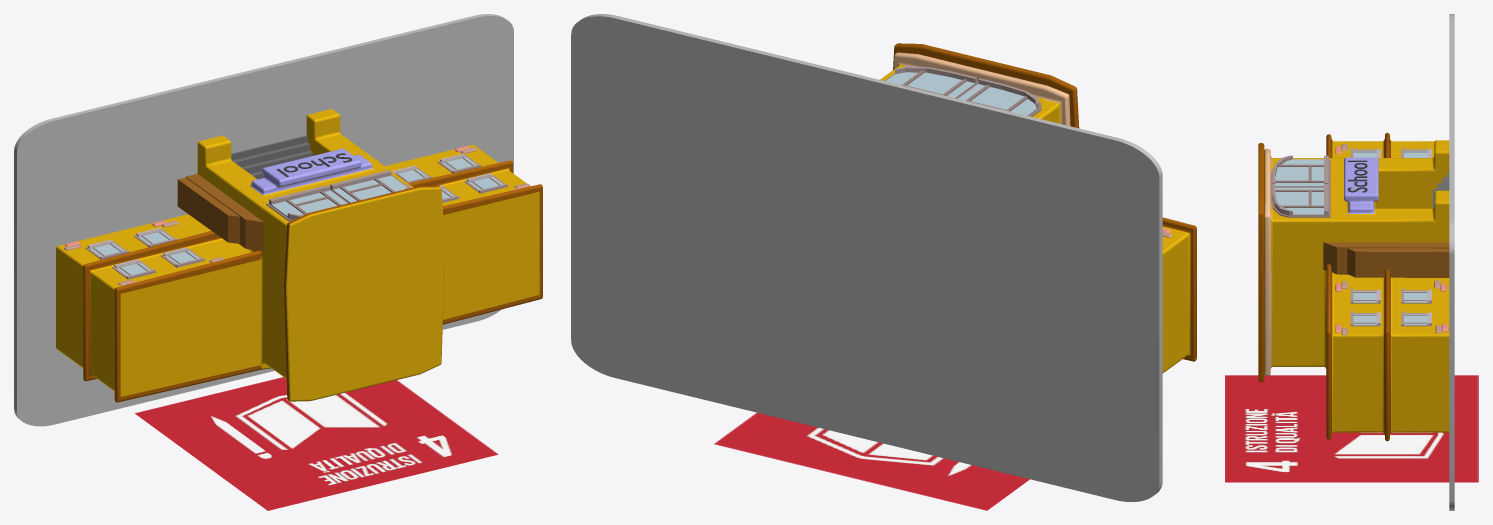
The picture shows the model from 3 angles, left to right: view 1: azimuth 30°, elevation 25°; view 2: azimuth 150°, elevation 25°; view 3: azimuth 270°, elevation 25°; orthographic projection. The views are drawn at different scales.
Parts seen in each view (by area): view 1: Cube, Plane__1_, ImageTargetPreview, Cube_016, Cube_002, Cube_015, Cube_001; view 2: Plane__1_, ImageTargetPreview, Cube, Cube_016; view 3: Cube, ImageTargetPreview, Cube_004, Plane__1_, Cube_016, Cube_003, Cube_006, Cube_035, Cube_041, Cube_038, Cube_044, Text.
Part boxes in pixels (box(x1,y1,x2,y2)): Cube: box(56, 109, 542, 402); Plane__1_: box(14, 14, 513, 426); ImageTargetPreview: box(135, 377, 498, 510); Cube_016: box(269, 170, 409, 219); Cube_002: box(177, 177, 239, 243); Cube_015: box(231, 135, 312, 179); Cube_001: box(185, 173, 263, 251); Plane__1_: box(571, 14, 1162, 501); ImageTargetPreview: box(714, 412, 1029, 510); Cube: box(880, 43, 1196, 373); Cube_016: box(886, 66, 1038, 115); Cube: box(1258, 132, 1449, 441); ImageTargetPreview: box(1225, 375, 1478, 482); Cube_004: box(1347, 248, 1449, 277); Plane__1_: box(1449, 14, 1454, 510); Cube_016: box(1272, 155, 1328, 215); Cube_003: box(1323, 242, 1449, 274); Cube_006: box(1271, 159, 1330, 217); Cube_035: box(1350, 311, 1380, 326); Cube_041: box(1401, 311, 1431, 326); Cube_038: box(1350, 288, 1380, 303); Cube_044: box(1401, 288, 1431, 303); Text: box(1347, 160, 1367, 192).
Bounding box in the file's own units: 2.15 × 1.35 × 1.
Materials: 20 (3 with a texture image).
